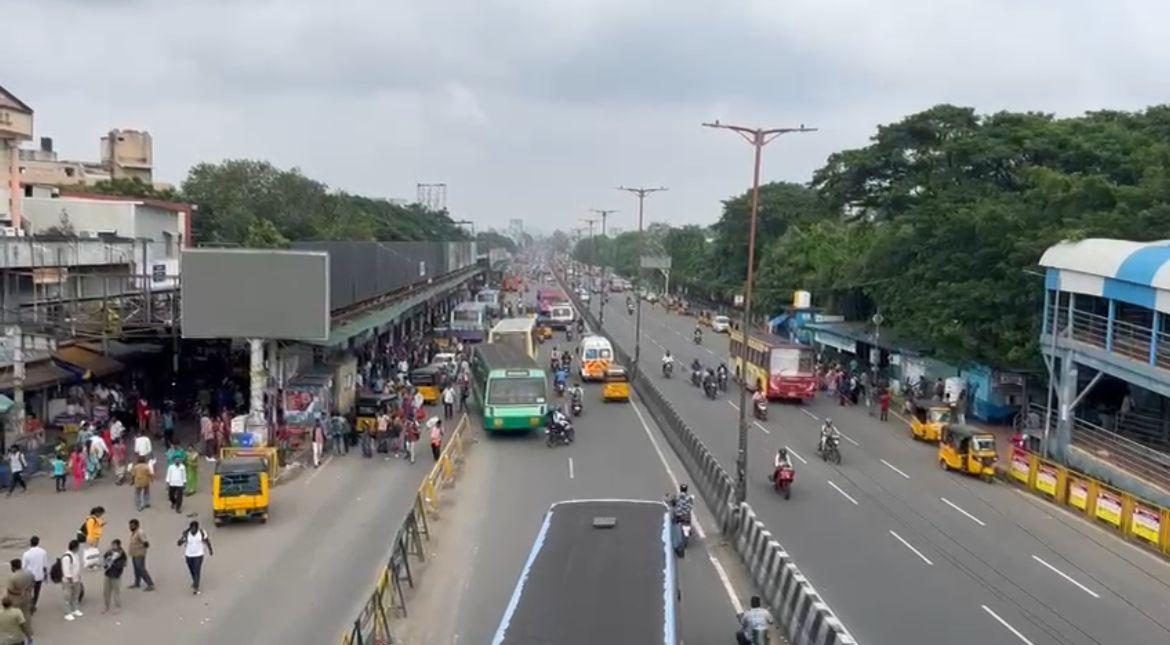ambulance: (584, 333, 611, 378)
